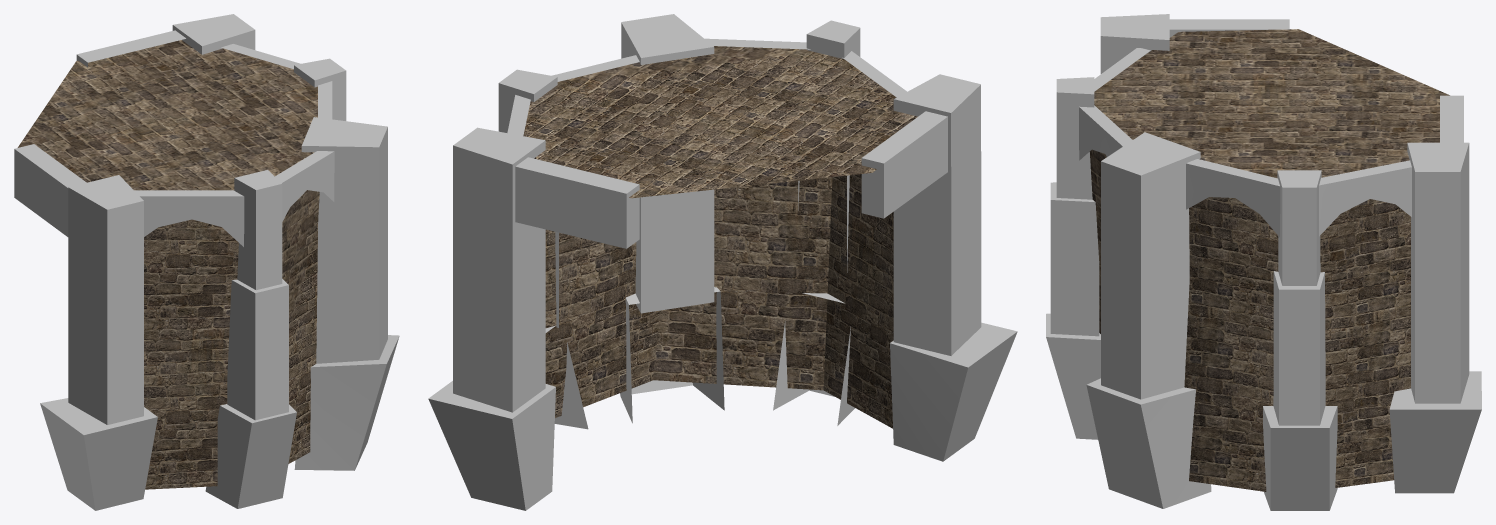
File: SM_EN_2003_Ruin_BuildingLOD02.FBX
3 views of the same model, side by side, from view 1: azimuth 30°, elevation 25°; view 2: azimuth 150°, elevation 25°; view 3: azimuth 270°, elevation 25° (orthographic). The views are drawn at different scales.
Parts seen in each view (by area): view 1: SM_EN_2003_Ruin_BuildingLOD02a, SM_EN_2003_Ruin_BuildingLOD02b; view 2: SM_EN_2003_Ruin_BuildingLOD02a, SM_EN_2003_Ruin_BuildingLOD02b; view 3: SM_EN_2003_Ruin_BuildingLOD02a, SM_EN_2003_Ruin_BuildingLOD02b.
Boxes of the visible parts, x1=… form: SM_EN_2003_Ruin_BuildingLOD02a: x1=14, y1=14, x2=399, y2=510; SM_EN_2003_Ruin_BuildingLOD02b: x1=17, y1=40, x2=319, y2=489; SM_EN_2003_Ruin_BuildingLOD02a: x1=428, y1=14, x2=1017, y2=510; SM_EN_2003_Ruin_BuildingLOD02b: x1=523, y1=46, x2=917, y2=428; SM_EN_2003_Ruin_BuildingLOD02a: x1=1046, y1=14, x2=1481, y2=510; SM_EN_2003_Ruin_BuildingLOD02b: x1=1089, y1=29, x2=1449, y2=491.
Bounding box in the file's own units: 654 × 564 × 643.
